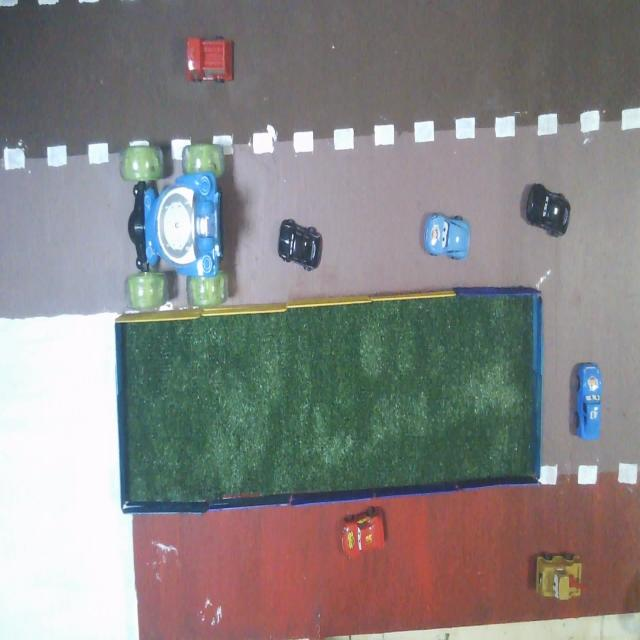driver car f: (120, 144, 227, 311)
small cars: (525, 183, 570, 236), (278, 219, 322, 270), (342, 507, 385, 557), (424, 214, 470, 260), (576, 363, 602, 440), (537, 555, 581, 599), (188, 38, 232, 82)
